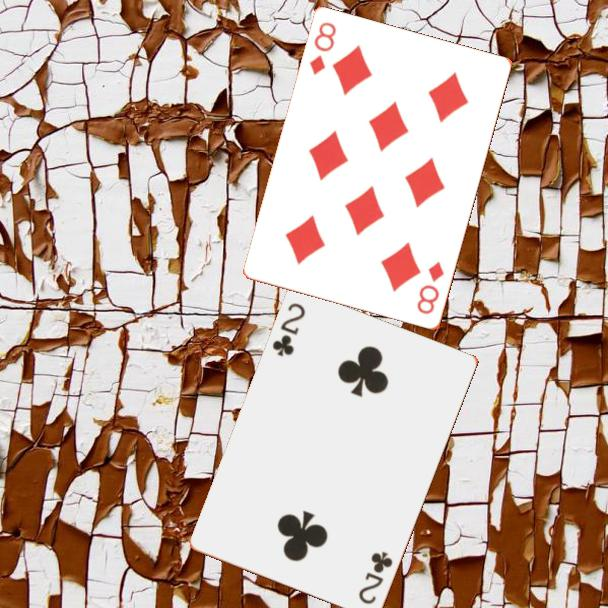c02: (355, 548, 396, 607), (269, 300, 308, 360)
d08: (413, 258, 448, 318), (306, 19, 339, 79)
